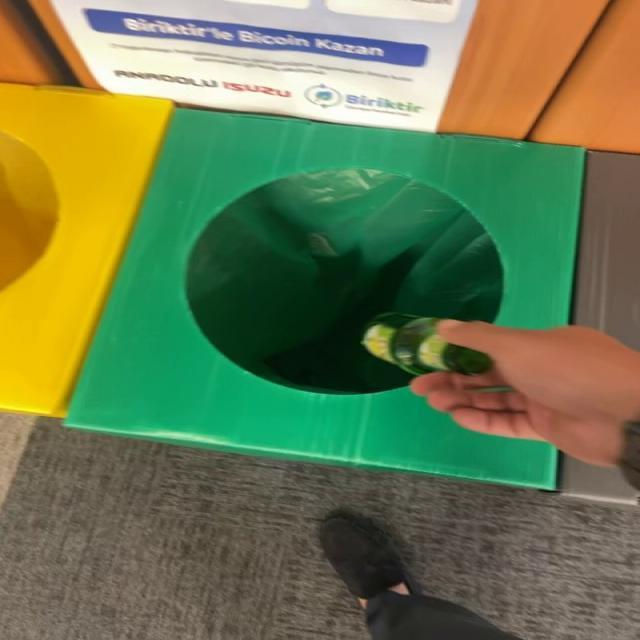Glass: (363, 314, 493, 376)
